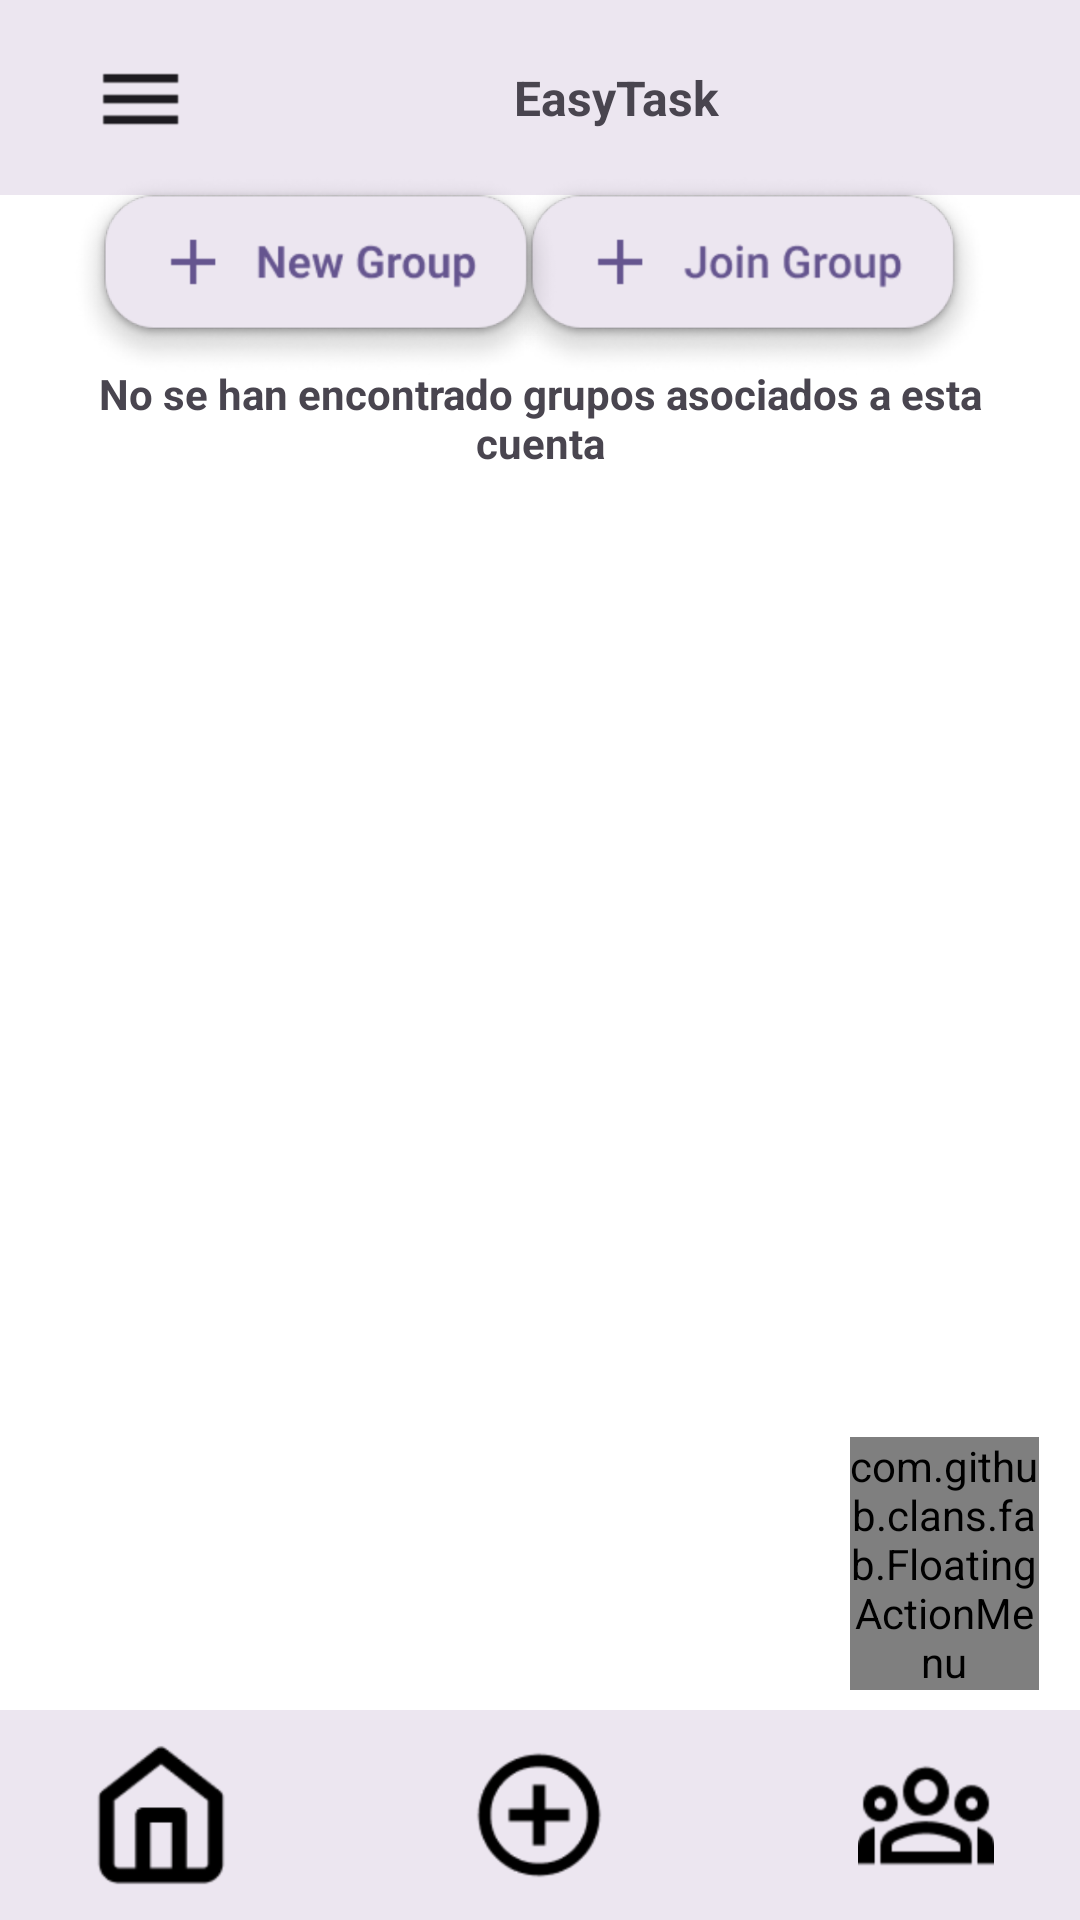

Named icons in this screenshot (1080×1920) and their centers, [x,y]:
add: [539,1815]
groups: [926,1815]
home: [161,1815]
